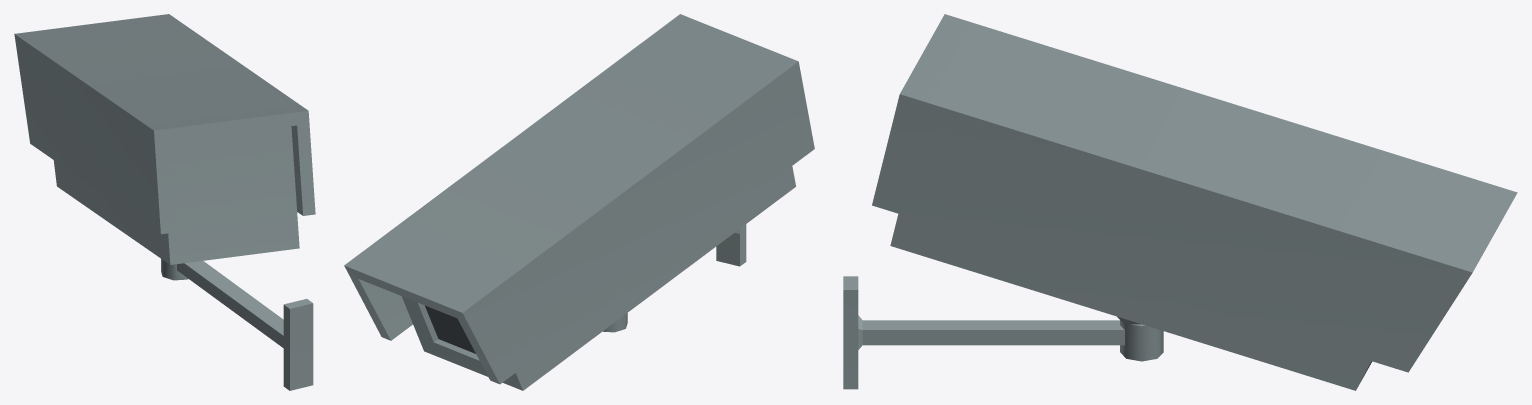
The model's file is squidgame_props_cctv.fbx.
The picture shows the model from 3 angles, left to right: view 1: azimuth 30°, elevation 25°; view 2: azimuth 150°, elevation 25°; view 3: azimuth 270°, elevation 25°; orthographic projection. The views are drawn at different scales.
Visible parts, largest first — view 1: squidgame_props_cctv; view 2: squidgame_props_cctv; view 3: squidgame_props_cctv.
Boxes of the visible parts, x1=… form: squidgame_props_cctv: x1=14, y1=14, x2=315, y2=390; squidgame_props_cctv: x1=344, y1=14, x2=814, y2=390; squidgame_props_cctv: x1=843, y1=14, x2=1517, y2=390.
Bounding box in the file's own units: 0.3737 × 0.3799 × 0.7584.
